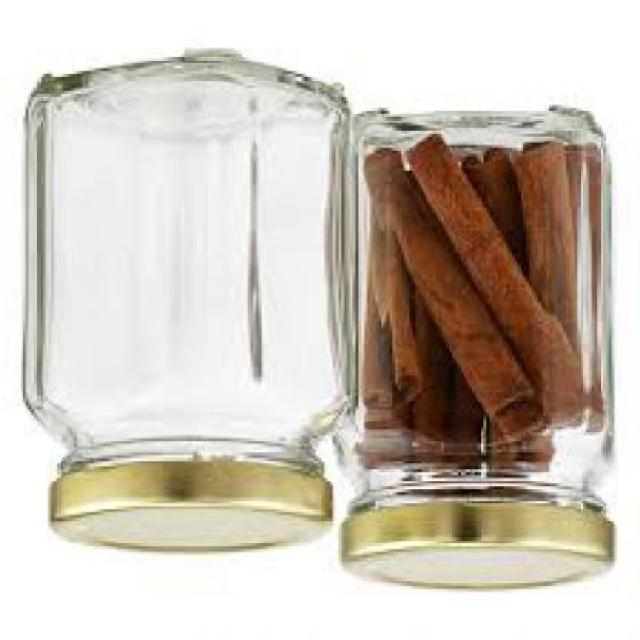BIODEGRADABLE: (331, 105, 615, 514), (368, 137, 588, 431), (468, 145, 605, 432), (457, 151, 529, 278), (360, 397, 472, 469), (414, 372, 491, 468), (411, 295, 455, 463), (380, 226, 423, 391), (491, 406, 555, 477), (363, 315, 398, 422)
GLASS: (22, 49, 351, 463)
METAL: (342, 492, 614, 592), (49, 457, 332, 552)
